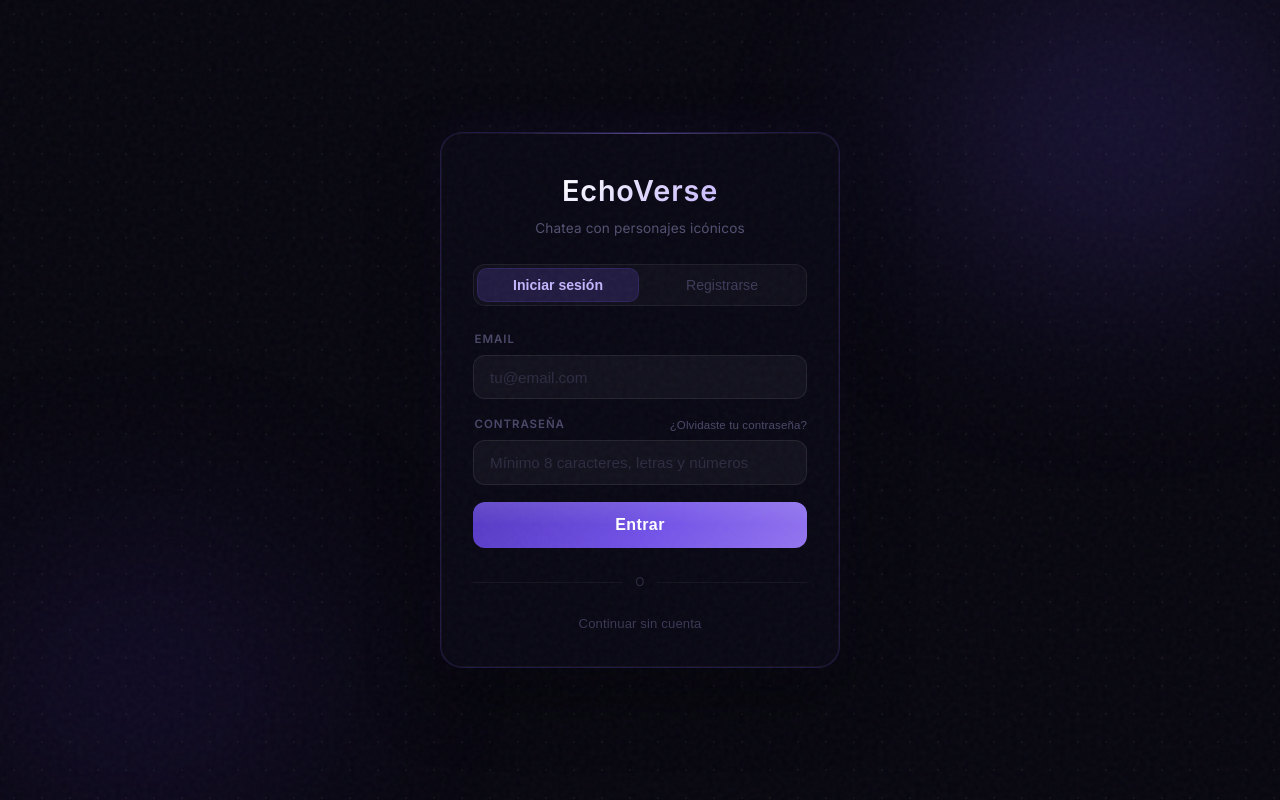
Test case: AuthPage — tab registro › el campo "Nombre o usuario" aparece al cambiar a tab registro
Click the button "Registrarse": click(722, 285) [642,269,802,301]
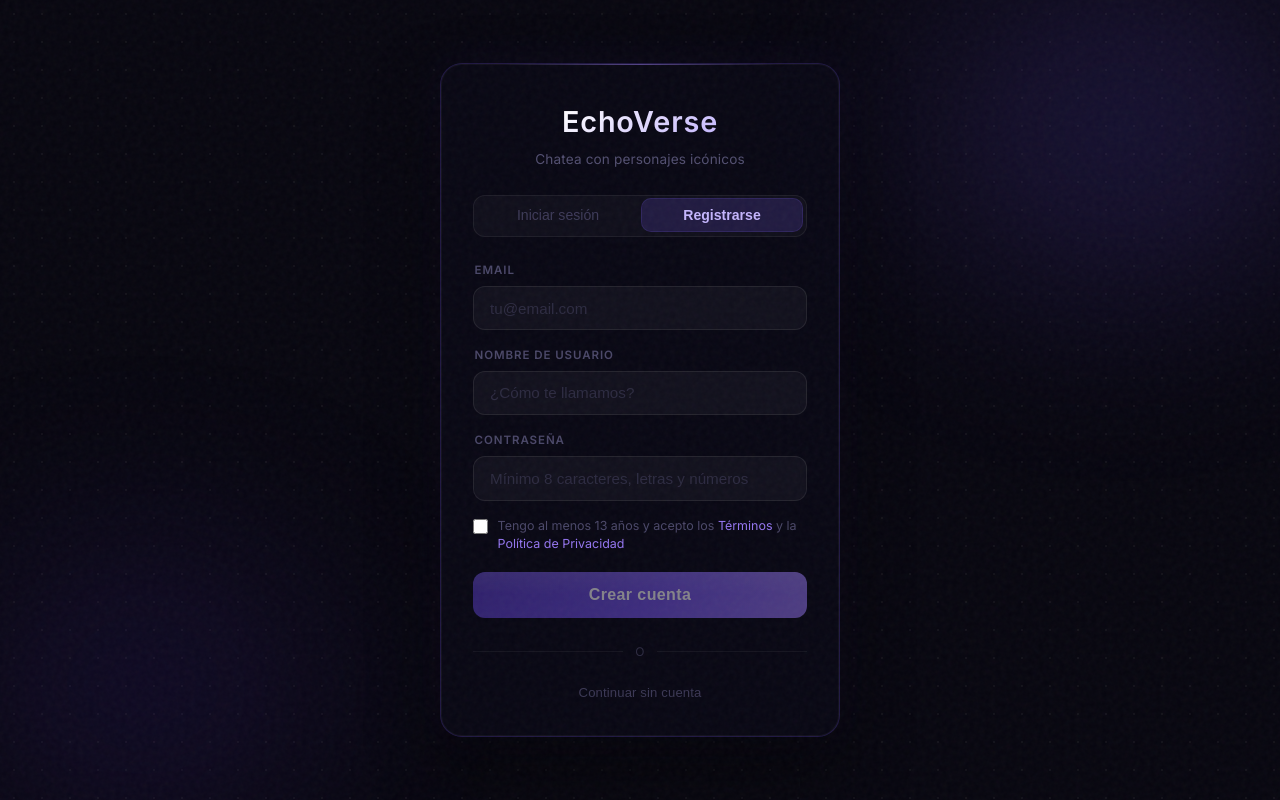
Result: the field with placeholder "¿Cómo te llamamos?" is shown at [473,371,807,415]
